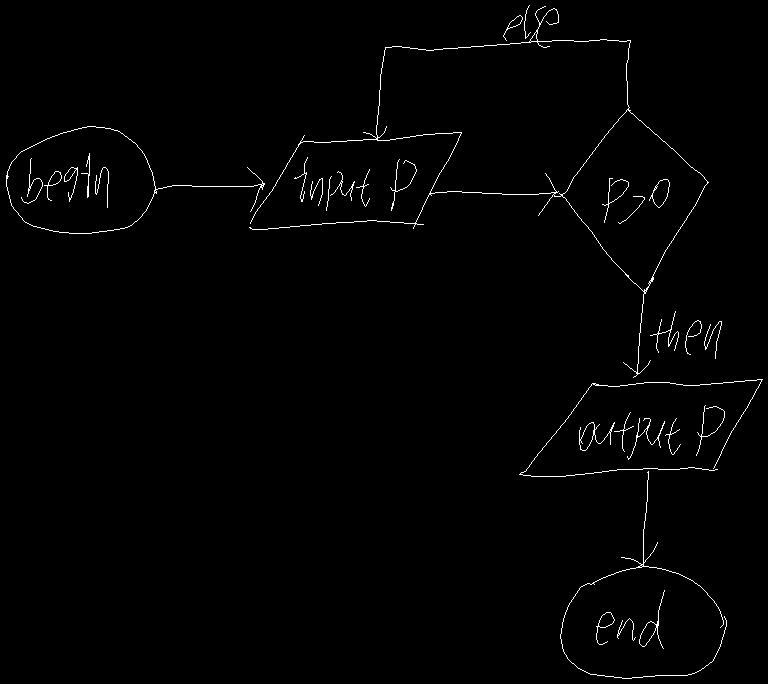arrow: (363, 39, 630, 140), (429, 173, 558, 215), (155, 167, 264, 211), (621, 471, 657, 567), (623, 289, 650, 377)
data: (519, 379, 762, 476), (249, 132, 461, 229)
decision: (554, 107, 708, 293)
terminator: (560, 566, 726, 678), (6, 126, 156, 233)
text: (579, 405, 724, 459), (294, 157, 416, 210), (21, 153, 108, 207), (596, 590, 664, 648), (650, 311, 721, 358), (602, 178, 669, 223), (503, 5, 558, 47)
